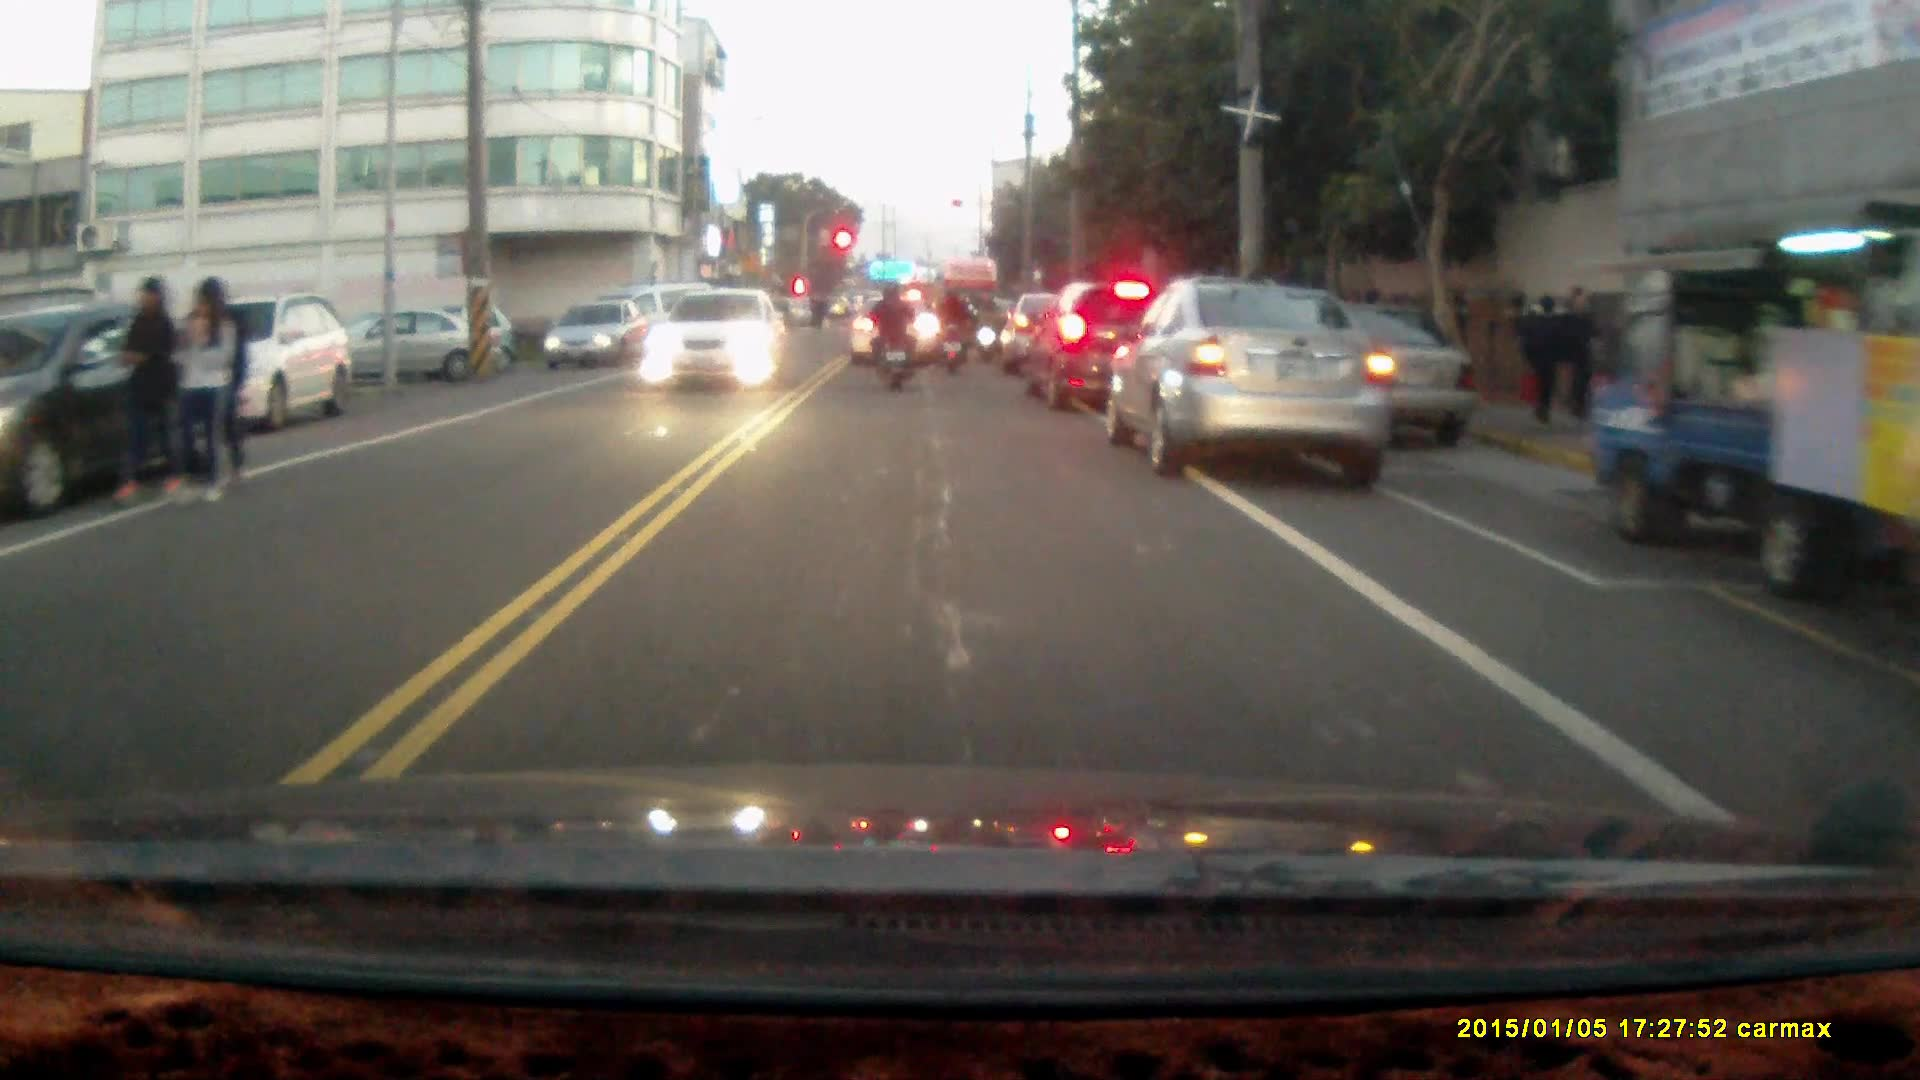pedestrian: (162, 276, 232, 511), (114, 270, 176, 507), (1553, 284, 1602, 428), (1521, 290, 1569, 430)
rider: (867, 277, 915, 392), (931, 280, 977, 376)
vehicle: (1591, 218, 1920, 604), (1114, 277, 1393, 479), (1, 298, 240, 525), (148, 290, 352, 432), (1031, 279, 1172, 411), (639, 288, 783, 388), (542, 300, 644, 367), (851, 293, 944, 364)
